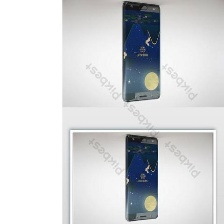phone: (118, 0, 163, 104), (121, 132, 161, 224)
